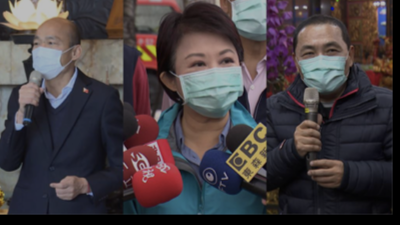with_mask: (173, 47, 244, 117), (295, 38, 350, 96), (32, 32, 74, 80)
